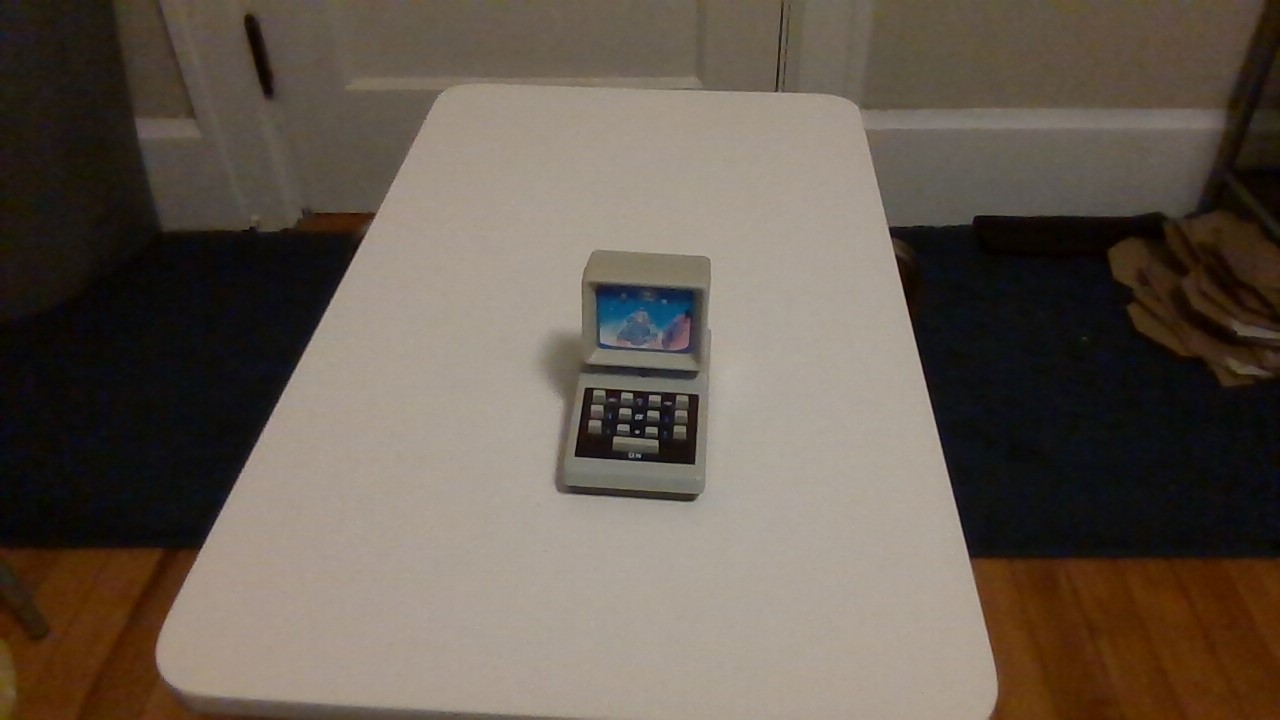Toy: (531, 229, 742, 525)
